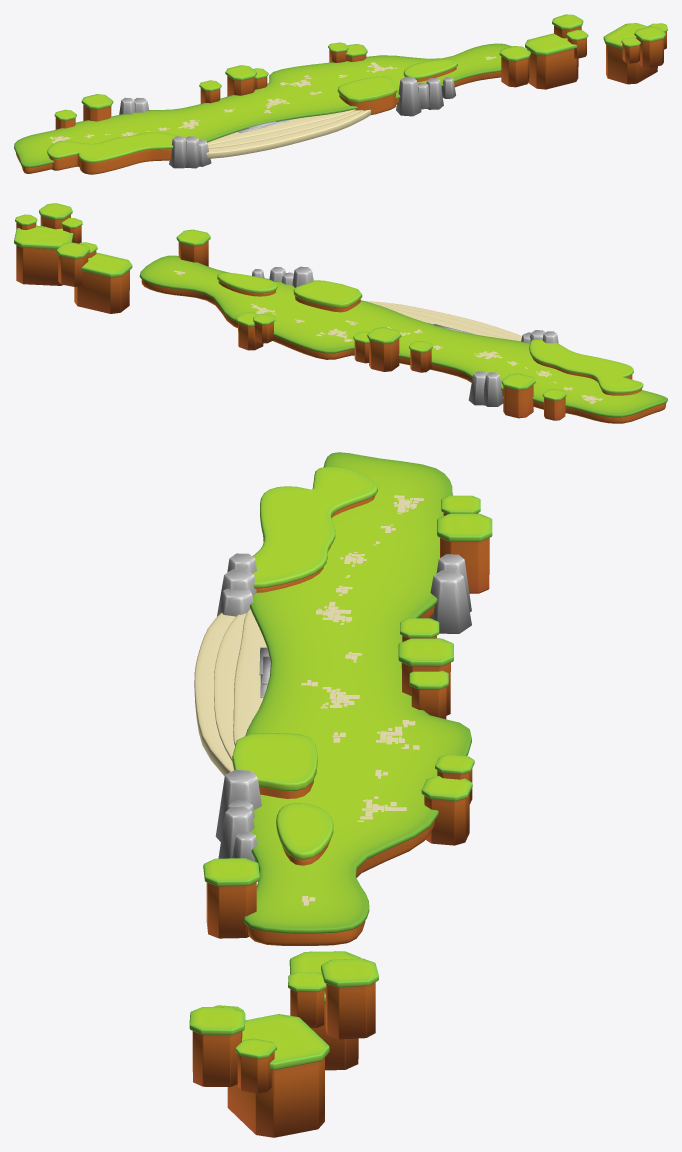
File: Pulau Jawa.fbx
The picture shows the model from 3 angles, top to bottom: view 1: azimuth 30°, elevation 25°; view 2: azimuth 150°, elevation 25°; view 3: azimuth 270°, elevation 25°; orthographic projection. The views are drawn at different scales.
Parts seen in each view (by area): view 1: Cube.030, Cube.031, Cube.077, Cube.673, Cube.664, Cube.894, Plane.479, Cylinder.069, Cube.070, Cube.666, Cube.079, Cube.670 (+18 smaller); view 2: Cube.030, Cube.031, Cube.078, Cube.673, Cube.077, Cube.894, Cube.073, Cube.070, Cube.899, Cube.896, Plane.479, Cube.668 (+14 smaller); view 3: Cube.030, Cube.031, Cube.077, Cube.894, Plane.479, Cube.073, Cube.668, Cube.078, Cube.666, Cube.670, Cylinder.035, Cube.895 (+13 smaller).
Boxes of the visible parts, <box> form: Cube.030: <box>14,43,511,167</box>; Cube.031: <box>47,59,457,162</box>; Cube.077: <box>206,109,370,158</box>; Cube.673: <box>527,49,578,89</box>; Cube.664: <box>49,148,171,174</box>; Cube.894: <box>606,44,657,84</box>; Plane.479: <box>49,56,496,143</box>; Cylinder.069: <box>396,76,421,116</box>; Cube.070: <box>525,33,576,55</box>; Cube.666: <box>501,56,529,87</box>; Cube.079: <box>339,67,456,114</box>; Cube.670: <box>636,37,664,67</box>; Cube.030: <box>139,255,667,417</box>; Cube.031: <box>217,272,643,393</box>; Cube.078: <box>141,279,666,423</box>; Cube.673: <box>74,270,129,313</box>; Cube.077: <box>365,301,521,341</box>; Cube.894: <box>16,245,62,285</box>; Cube.073: <box>14,225,73,249</box>; Cube.070: <box>81,252,132,277</box>; Cube.899: <box>369,338,399,371</box>; Cube.896: <box>503,385,533,418</box>; Plane.479: <box>173,270,602,403</box>; Cube.668: <box>58,253,88,286</box>; Cube.030: <box>244,452,471,933</box>; Cube.031: <box>232,466,377,859</box>; Cube.077: <box>194,609,266,775</box>; Cube.894: <box>227,1058,324,1137</box>; Plane.479: <box>301,495,423,905</box>; Cube.073: <box>242,1014,329,1070</box>; Cube.668: <box>324,982,375,1039</box>; Cube.078: <box>247,605,434,945</box>; Cube.666: <box>206,882,256,938</box>; Cube.670: <box>192,1031,242,1086</box>; Cylinder.035: <box>430,570,471,633</box>; Cube.895: <box>424,794,469,845</box>.
Size of the model in its own units: 203 by 18.72 by 42.65.
